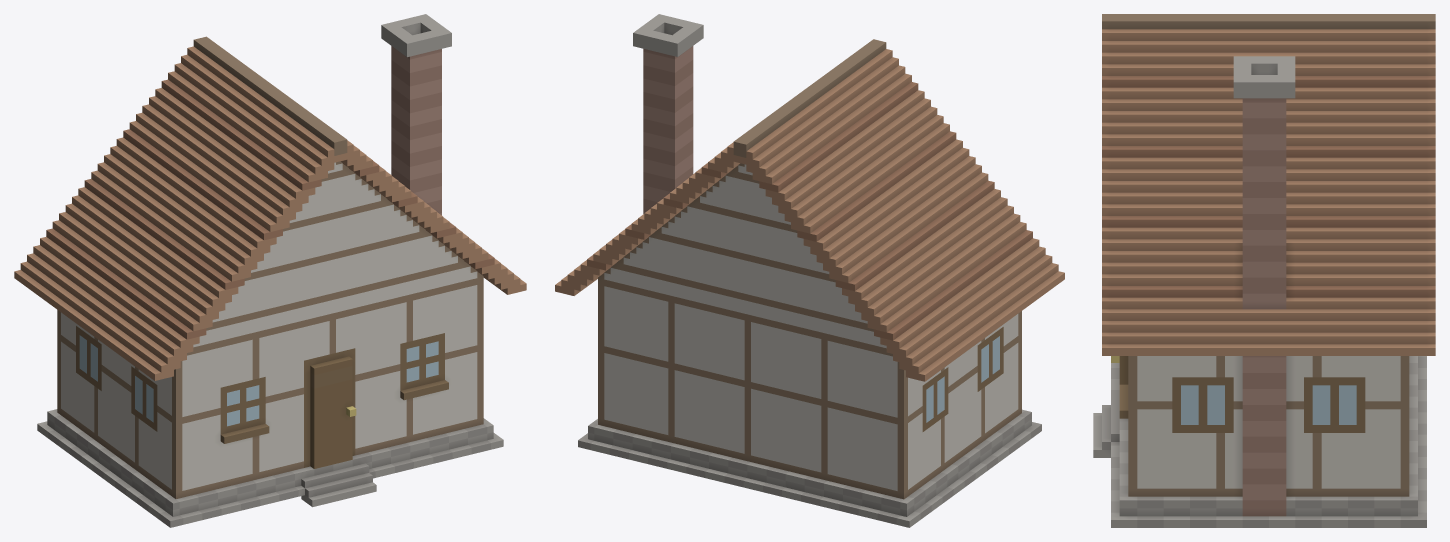
The model's file is maison_taverne.glb.
3 views of the same model, side by side, from view 1: azimuth 30°, elevation 25°; view 2: azimuth 150°, elevation 25°; view 3: azimuth 270°, elevation 25° (orthographic). The views are drawn at different scales.
Parts seen in each view (by area): view 1: geometry_0; view 2: geometry_0; view 3: geometry_0.
Part boxes in pixels (x1,y1,x2,y2): geometry_0: (14,14,526,527); geometry_0: (555,14,1064,527); geometry_0: (1093,14,1435,527).
Size of the model in its own units: 7.25 by 7.12 by 4.88.
